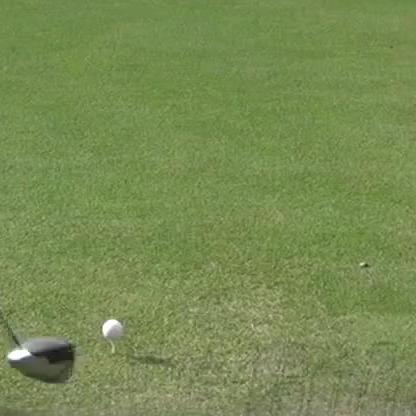golfball: (100, 316, 122, 338)
